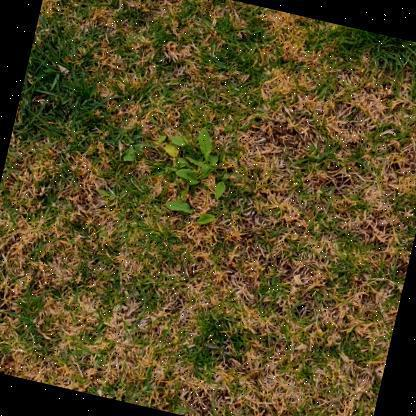Weeds: (143, 119, 238, 228)
